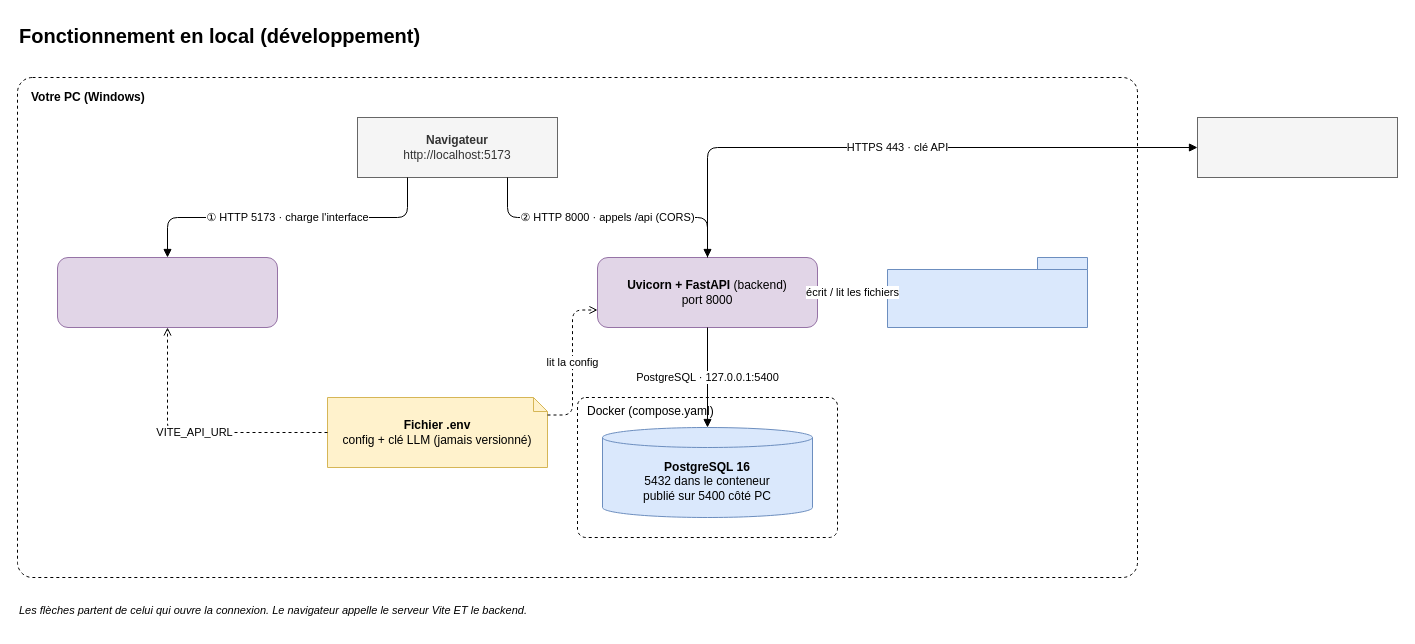
Some shapes in this 1415 by 644 pixel diagram are drawn without their labels. The box of each missing label's shape, as (x1, y1, x2, y2) in pixels:
Dossier PDF backend/data/documents: (886, 256, 1088, 328)
OpenRouter (Internet) API LLM: (1196, 116, 1398, 178)
Serveur Vite (npm run dev) frontend React · port 5173: (56, 256, 278, 328)
